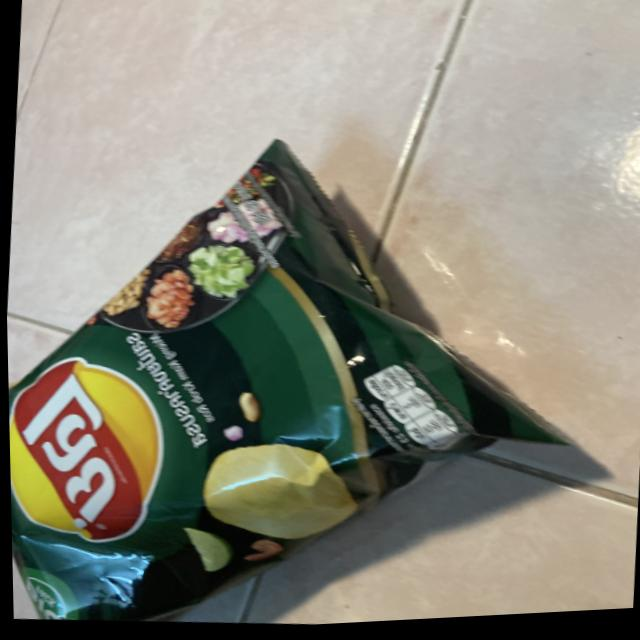Laygreen: (2, 104, 589, 640)
